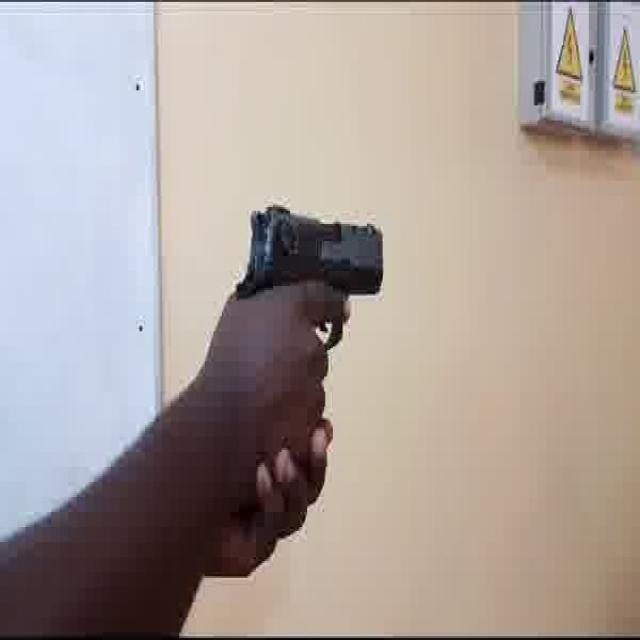weapon: (234, 200, 384, 356)
